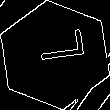L_W: (26, 36, 84, 74)
